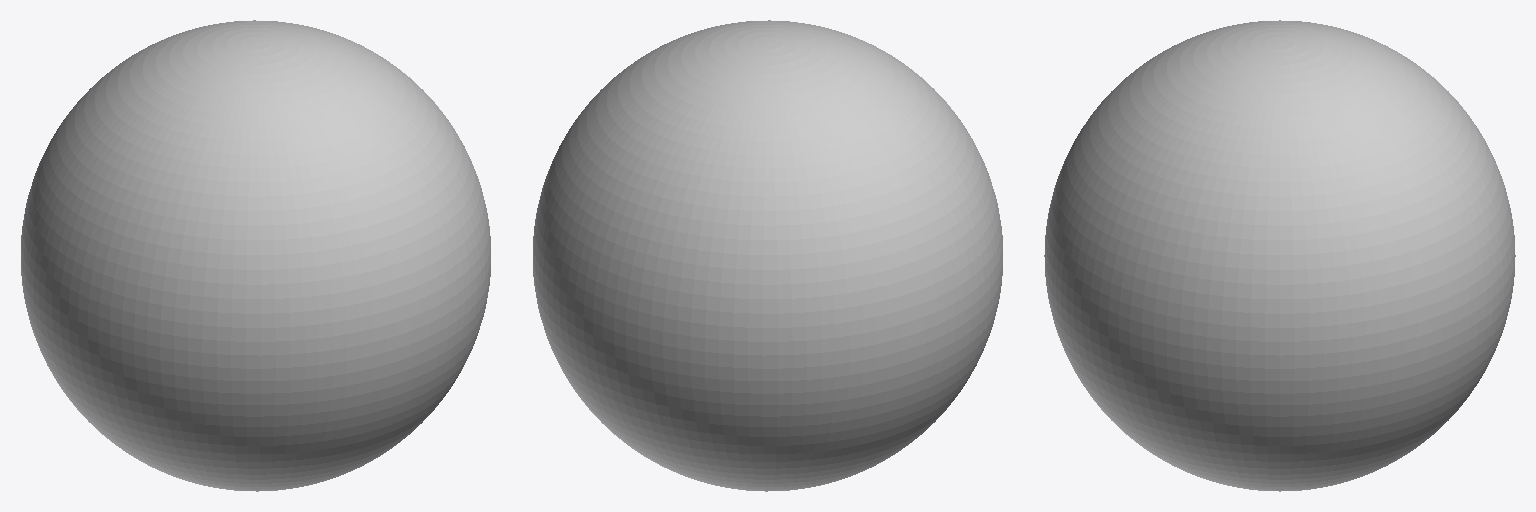
3 renders of one model, left to right at view 1: azimuth 30°, elevation 25°; view 2: azimuth 150°, elevation 25°; view 3: azimuth 270°, elevation 25°, orthographic.
Visible parts, largest first — view 1: 球体; view 2: 球体; view 3: 球体.
Boxes of the visible parts, <box> form: 球体: <box>21,20,490,491</box>; 球体: <box>533,20,1002,491</box>; 球体: <box>1044,20,1515,491</box>.
Size of the model in its own units: 2 by 2 by 2.